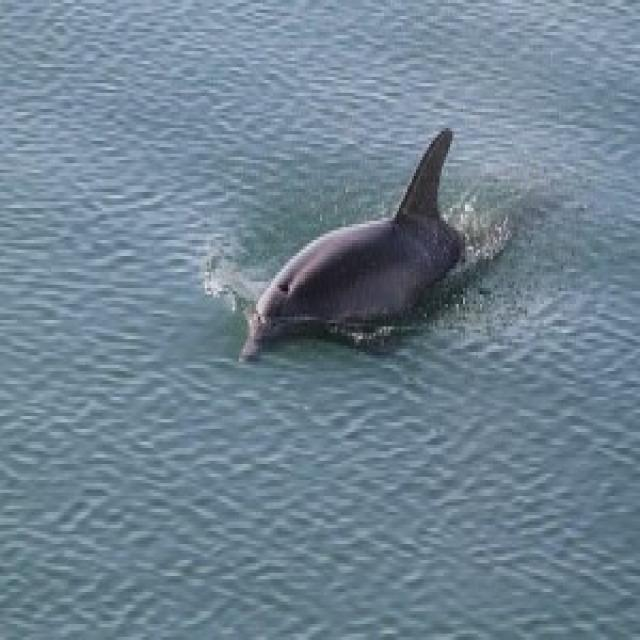Dolphin: (226, 109, 493, 375)
